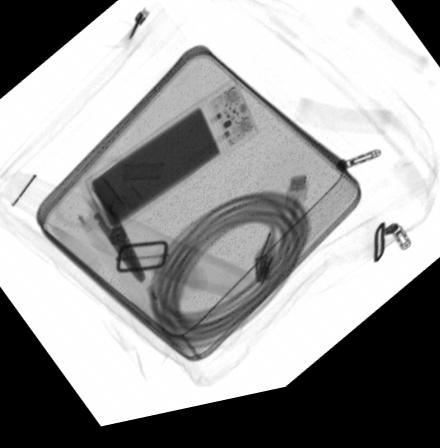Powerbank: (83, 84, 257, 237)
Scissors: (49, 158, 147, 291)
